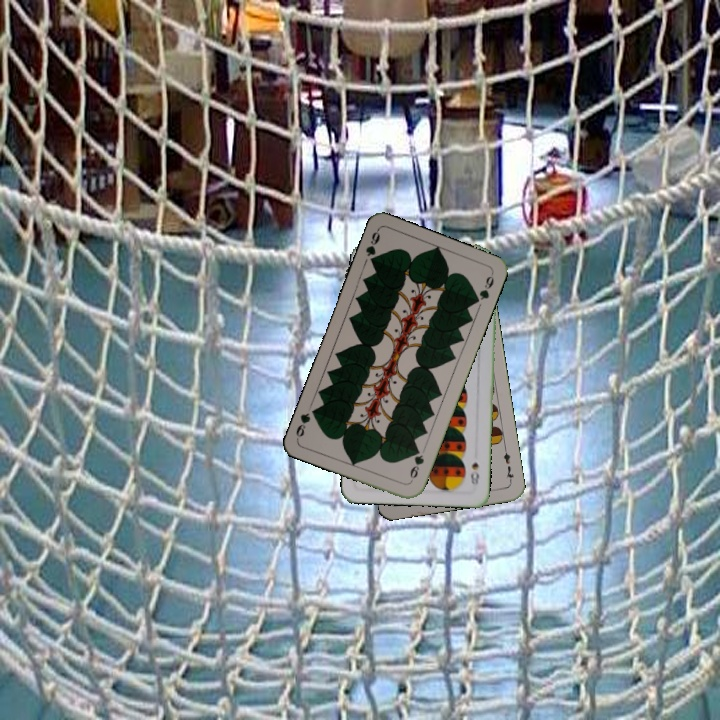E7: (499, 445, 516, 485)
G9: (361, 226, 383, 268), (406, 445, 427, 485)
S8: (466, 459, 482, 489)
